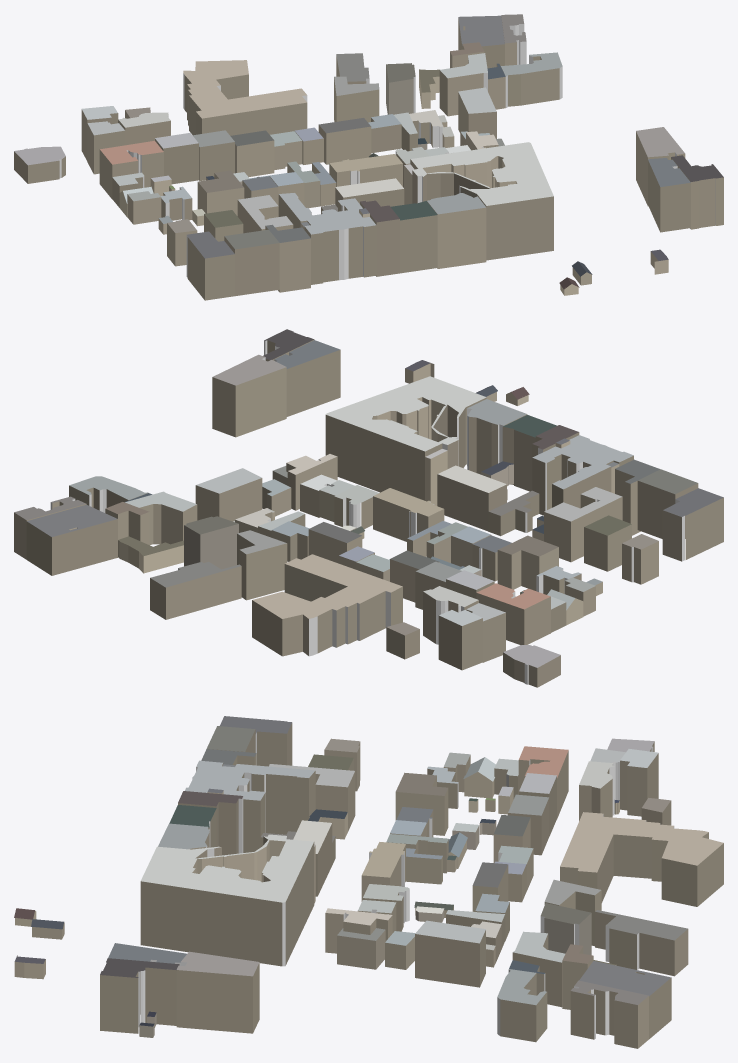
3 views of the same model, one above another, from view 1: azimuth 30°, elevation 25°; view 2: azimuth 150°, elevation 25°; view 3: azimuth 270°, elevation 25° (orthographic). The views are drawn at different scales.
Parts seen in each view (by area): view 1: tuile; view 2: tuile; view 3: tuile.
Boxes of the visible parts, bbox=[...] form: tuile: bbox=[14, 14, 723, 300]; tuile: bbox=[14, 329, 723, 687]; tuile: bbox=[14, 716, 723, 1048].
Size of the model in its own units: 263 by 31.37 by 272.
